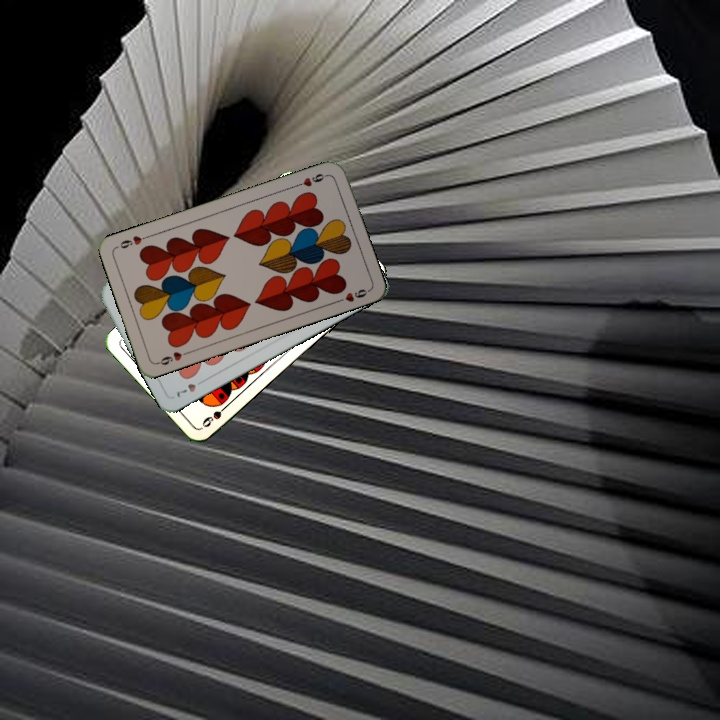H7: (172, 375, 208, 400)
H9: (291, 169, 331, 190), (153, 347, 192, 368)
S9: (198, 399, 232, 430)
